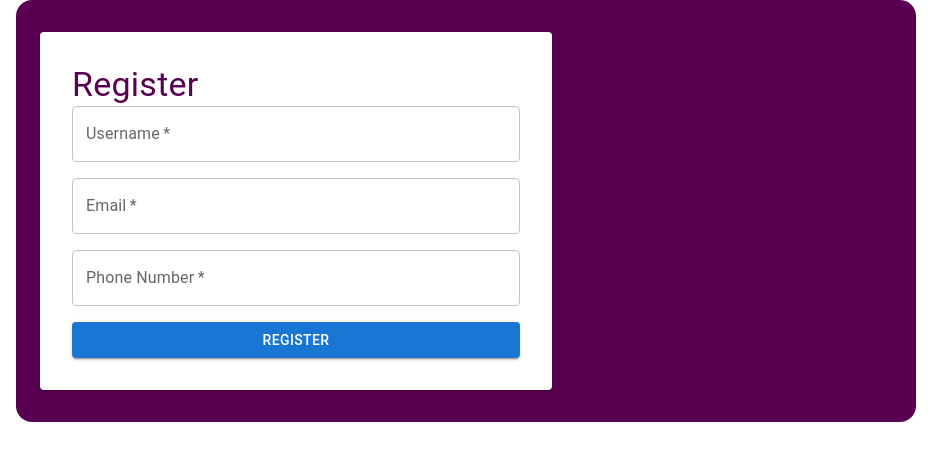
Test: RegistrationForm › shows validation error for invalid phone number format
The image size is (933, 462).
Type "123" into the field labelled "Phone Number *".
click(296, 278); type("123")  # box [72, 250, 520, 306]
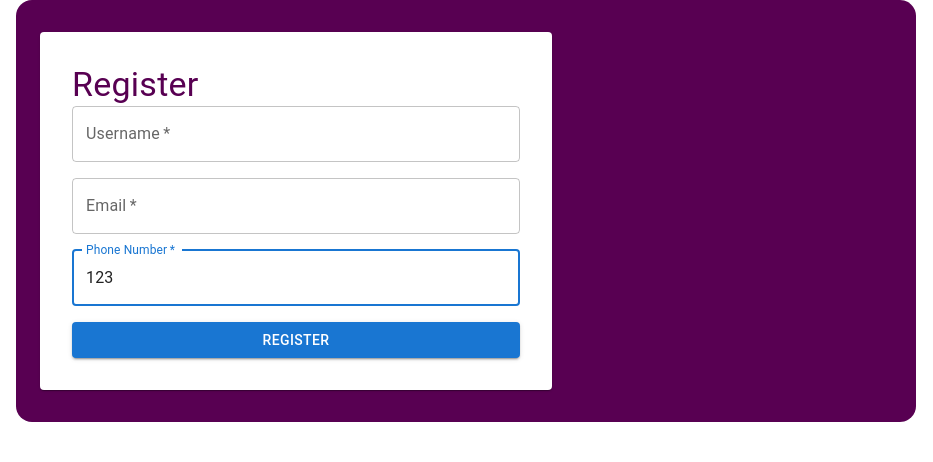
Click the button "Register".
click(296, 340)  # box [72, 322, 520, 358]
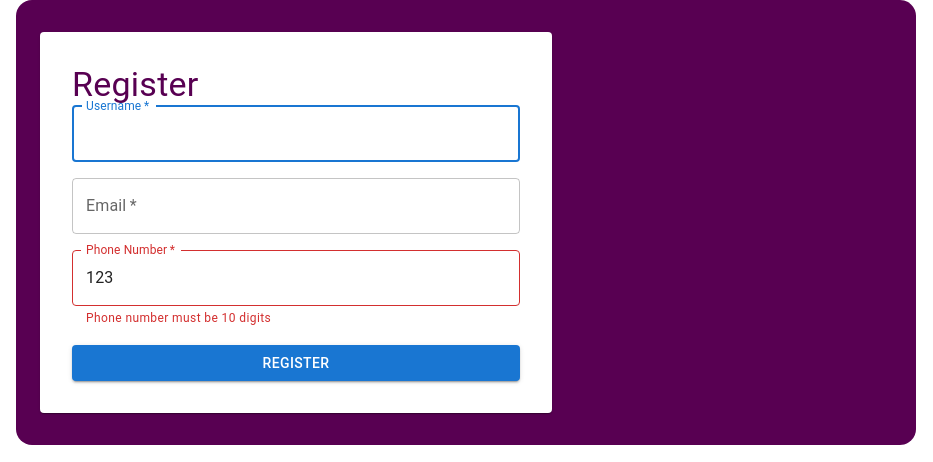
Now the text "Phone number must be 10 digits" is shown, box [86, 311, 271, 325]
